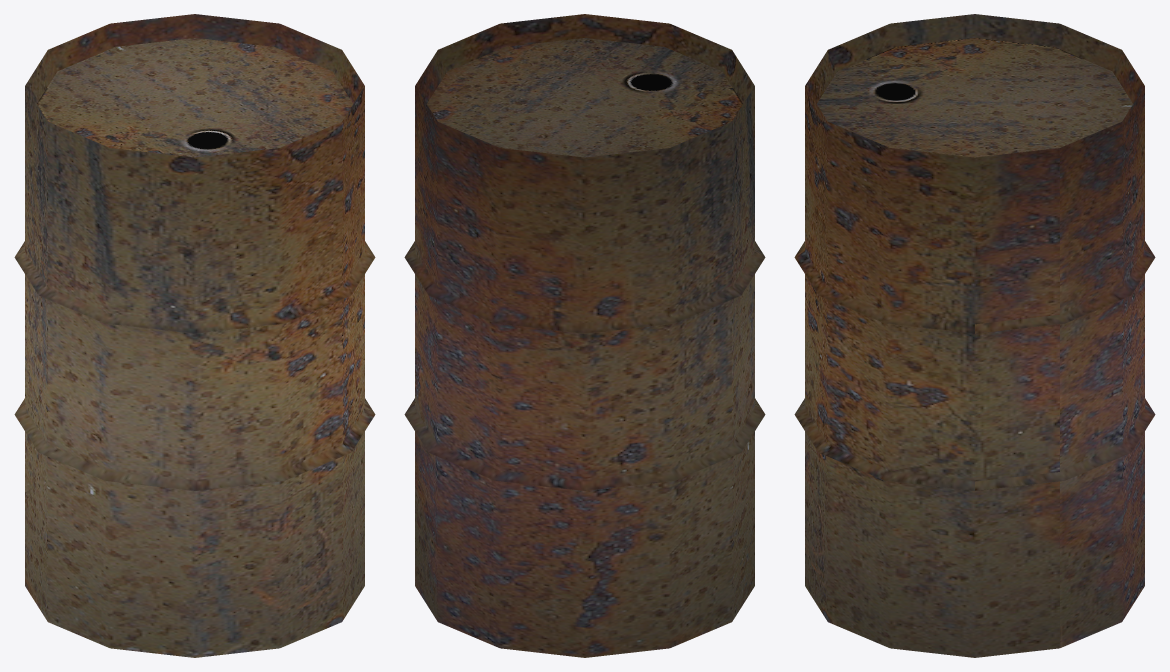
The model's file is barrol03.fbx.
The picture shows the model from 3 angles, left to right: view 1: azimuth 30°, elevation 25°; view 2: azimuth 150°, elevation 25°; view 3: azimuth 270°, elevation 25°; orthographic projection.
Visible parts, largest first — view 1: barrel03_Layer1; view 2: barrel03_Layer1; view 3: barrel03_Layer1.
Boxes of the visible parts, x1,y1,x2,y2 form: barrel03_Layer1: (14, 14, 375, 657); barrel03_Layer1: (404, 14, 765, 657); barrel03_Layer1: (794, 14, 1155, 657).
Bounding box in the file's own units: 66.3 × 101 × 66.3.
Materials: 1 (1 with a texture image).
